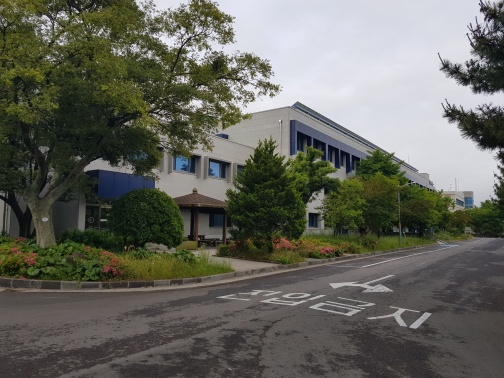College of Social Sciences: (73, 77, 436, 237)
